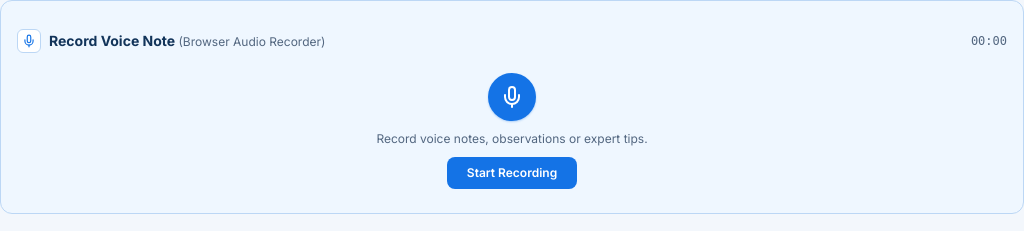
Scenario: T2.4: AudioRecorder & useMediaRecorder › records audio, transitions to stopped preview, releases mic tracks, and uploads only on explicit action
Later steps or results of the test are not shown.
Step 1. Click the button "Start Recording" → x=512, y=173, box [447,157,577,189]
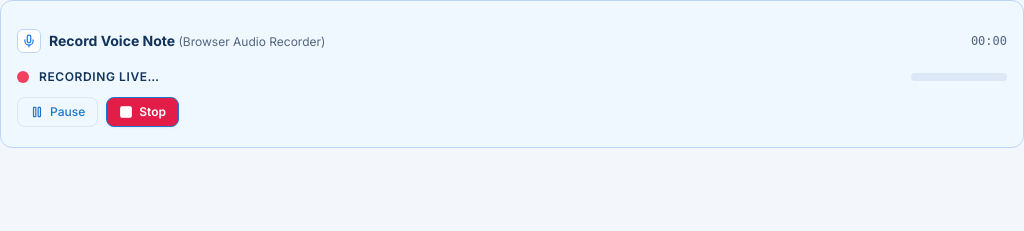
Expected: the text "Recording live…" is shown, [39,69,160,85]
Step 2. Click the button "Pause" → x=58, y=112, box [17,97,98,127]
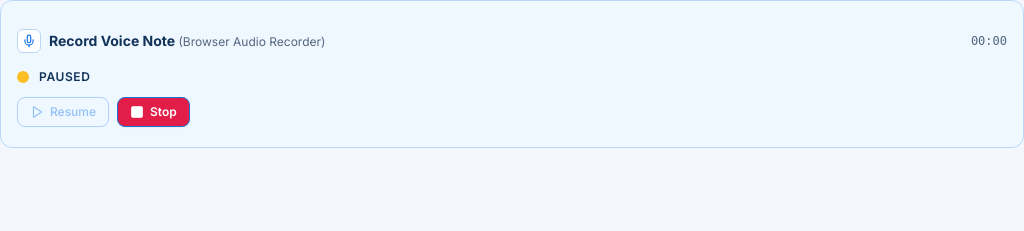
Expected: the text "Paused" is shown, [39,69,90,85]
